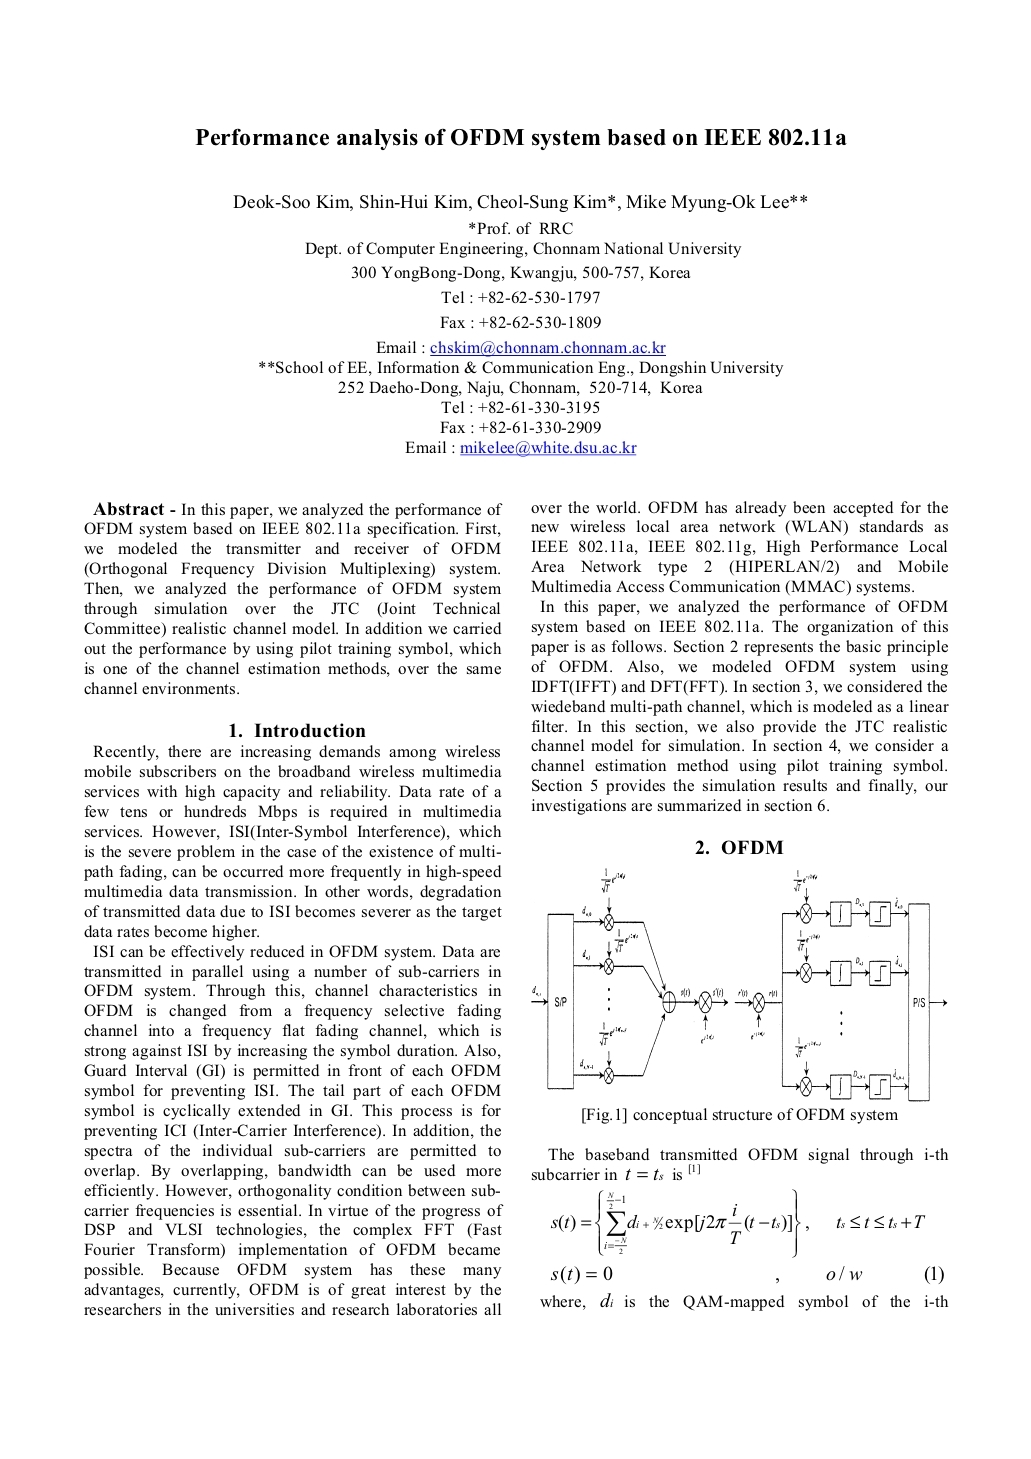figure: (531, 867, 947, 1102)
formula: (551, 1188, 925, 1258), (551, 1265, 943, 1284)
